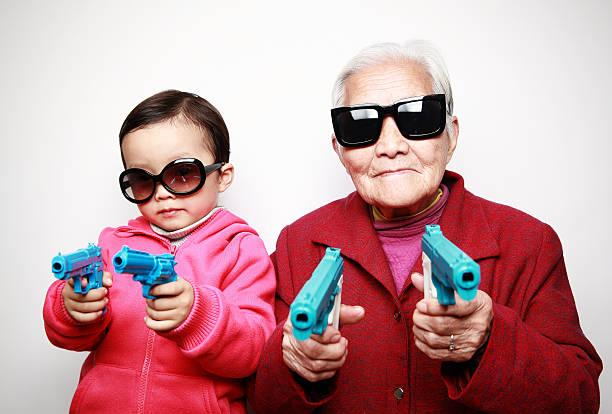weapon: (412, 224, 482, 320), (288, 244, 347, 342), (109, 240, 177, 301), (49, 242, 106, 298)
